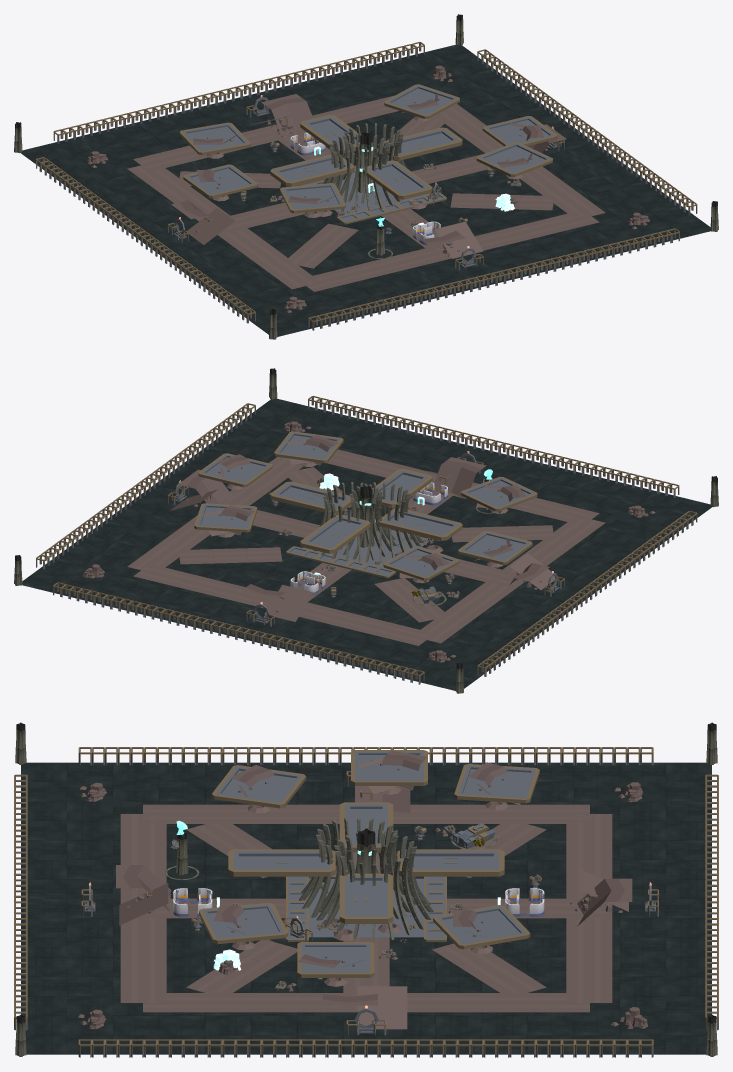
Rendered from frostline.glb.
3 views of the same model, one above another, from view 1: azimuth 30°, elevation 25°; view 2: azimuth 150°, elevation 25°; view 3: azimuth 270°, elevation 25° (orthographic). The views are drawn at different scales.
Parts seen in each view (by area): view 1: Ceiling (×14), CentralTower__mesh_51_Mesh_tall_arch_subset_0 (×2), Canyon_S__Mesh_terrain_sideCliff_1, Island_NW__Mesh_platform_large_1, Island_SW__Mesh_platform_large_1, Island_W__Mesh_platform_large_1, Island_NE__Mesh_platform_large_1, Island_SE__Mesh_platform_large_1, Bridge_N__Mesh_platform_long_1, Canyon_N__terrain_side, Canyon_W__terrain_side, Island_E__Mesh_platform_large_1 (+9 smaller); view 2: Ceiling (×13), CentralTower__mesh_51_Mesh_tall_arch_subset_0 (×2), Canyon_N__Mesh_terrain_sideCliff_1, Canyon_S__terrain_side, Island_W__Mesh_platform_large_1, Bridge_S__Mesh_platform_long_1, Bridge_W__Mesh_platform_long_1, Island_NW__Mesh_platform_large_1, Island_E__Mesh_platform_large_1, Island_SW__Mesh_platform_large_1, Island_NE__Mesh_platform_large_1, Island_SE__Mesh_platform_large_1 (+11 smaller); view 3: Ceiling (×118), Mesh_terrain_roadStraight (×37), CentralTower__mesh_51_Mesh_tall_arch_subset_0 (×2), Canyon_E__terrain_side, Island_E__Mesh_platform_large_1, Island_NE__Mesh_platform_large_1, Island_SE__Mesh_platform_large_1, Island_SW__Mesh_platform_large_1, Bridge_E__Mesh_platform_long_1, Bridge_N__Mesh_platform_long_1, Island_NW__Mesh_platform_large_1, Bridge_S__Mesh_platform_long_1 (+18 smaller).
Part boxes in pixels (bbox=[...]): Ceiling (×14): bbox=[99, 77, 608, 303]; CentralTower__mesh_51_Mesh_tall_arch_subset_0 (×2): bbox=[322, 123, 406, 212]; Canyon_S__Mesh_terrain_sideCliff_1: bbox=[266, 97, 313, 135]; Island_NW__Mesh_platform_large_1: bbox=[283, 184, 342, 209]; Island_SW__Mesh_platform_large_1: bbox=[182, 123, 247, 151]; Island_W__Mesh_platform_large_1: bbox=[186, 165, 254, 194]; Island_NE__Mesh_platform_large_1: bbox=[479, 143, 550, 173]; Island_SE__Mesh_platform_large_1: bbox=[387, 85, 457, 115]; Bridge_N__Mesh_platform_long_1: bbox=[367, 162, 428, 194]; Canyon_N__terrain_side: bbox=[434, 221, 483, 258]; Canyon_W__terrain_side: bbox=[186, 208, 234, 244]; Island_E__Mesh_platform_large_1: bbox=[486, 117, 554, 144]; Ceiling (×13): bbox=[94, 446, 650, 657]; CentralTower__mesh_51_Mesh_tall_arch_subset_0 (×2): bbox=[313, 482, 423, 562]; Canyon_N__Mesh_terrain_sideCliff_1: bbox=[434, 460, 481, 498]; Canyon_S__terrain_side: bbox=[264, 585, 313, 621]; Island_W__Mesh_platform_large_1: bbox=[461, 532, 529, 561]; Bridge_S__Mesh_platform_long_1: bbox=[304, 516, 366, 548]; Bridge_W__Mesh_platform_long_1: bbox=[382, 509, 458, 535]; Island_NW__Mesh_platform_large_1: bbox=[463, 477, 534, 507]; Island_E__Mesh_platform_large_1: bbox=[201, 454, 269, 483]; Island_SW__Mesh_platform_large_1: bbox=[386, 547, 456, 577]; Island_NE__Mesh_platform_large_1: bbox=[277, 432, 340, 459]; Island_SE__Mesh_platform_large_1: bbox=[197, 504, 254, 528]; Ceiling (×118): bbox=[21, 762, 711, 1054]; Mesh_terrain_roadStraight (×37): bbox=[120, 804, 612, 1012]; CentralTower__mesh_51_Mesh_tall_arch_subset_0 (×2): bbox=[299, 816, 433, 940]; Canyon_E__terrain_side: bbox=[358, 986, 407, 1029]; Island_E__Mesh_platform_large_1: bbox=[301, 943, 370, 972]; Island_NE__Mesh_platform_large_1: bbox=[203, 904, 284, 938]; Island_SE__Mesh_platform_large_1: bbox=[437, 906, 526, 944]; Island_SW__Mesh_platform_large_1: bbox=[458, 765, 535, 798]; Bridge_E__Mesh_platform_long_1: bbox=[345, 876, 387, 916]; Bridge_N__Mesh_platform_long_1: bbox=[233, 851, 330, 869]; Island_NW__Mesh_platform_large_1: bbox=[216, 766, 301, 803]; Bridge_S__Mesh_platform_long_1: bbox=[402, 851, 499, 869].
Size of the model in its own units: 184 by 22.32 by 184.
192 materials, 62 textured.
